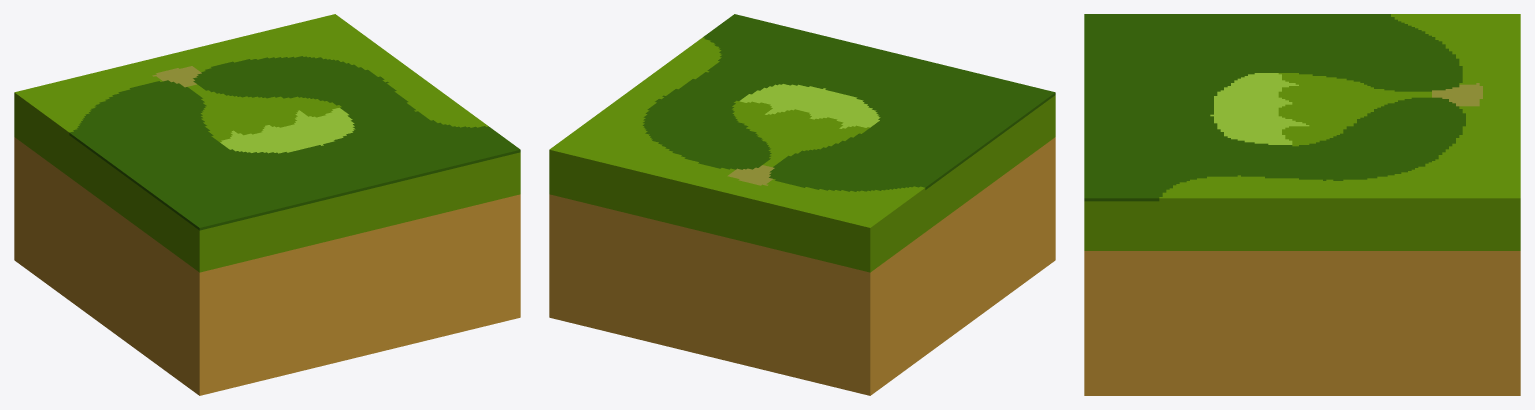
3 views of the same model, side by side, from view 1: azimuth 30°, elevation 25°; view 2: azimuth 150°, elevation 25°; view 3: azimuth 270°, elevation 25° (orthographic). The views are drawn at different scales.
Visible parts, largest first — view 1: 6L; view 2: 6L; view 3: 6L.
Boxes of the visible parts, x1=… form: 6L: x1=14, y1=14, x2=520, y2=395; 6L: x1=549, y1=14, x2=1055, y2=395; 6L: x1=1084, y1=14, x2=1520, y2=395.
Size of the model in its own units: 12.8 by 6.4 by 12.8.
1 material, 1 textured.
